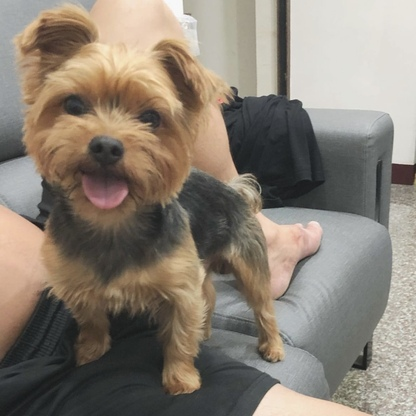yorkshire: (16, 3, 286, 393)
